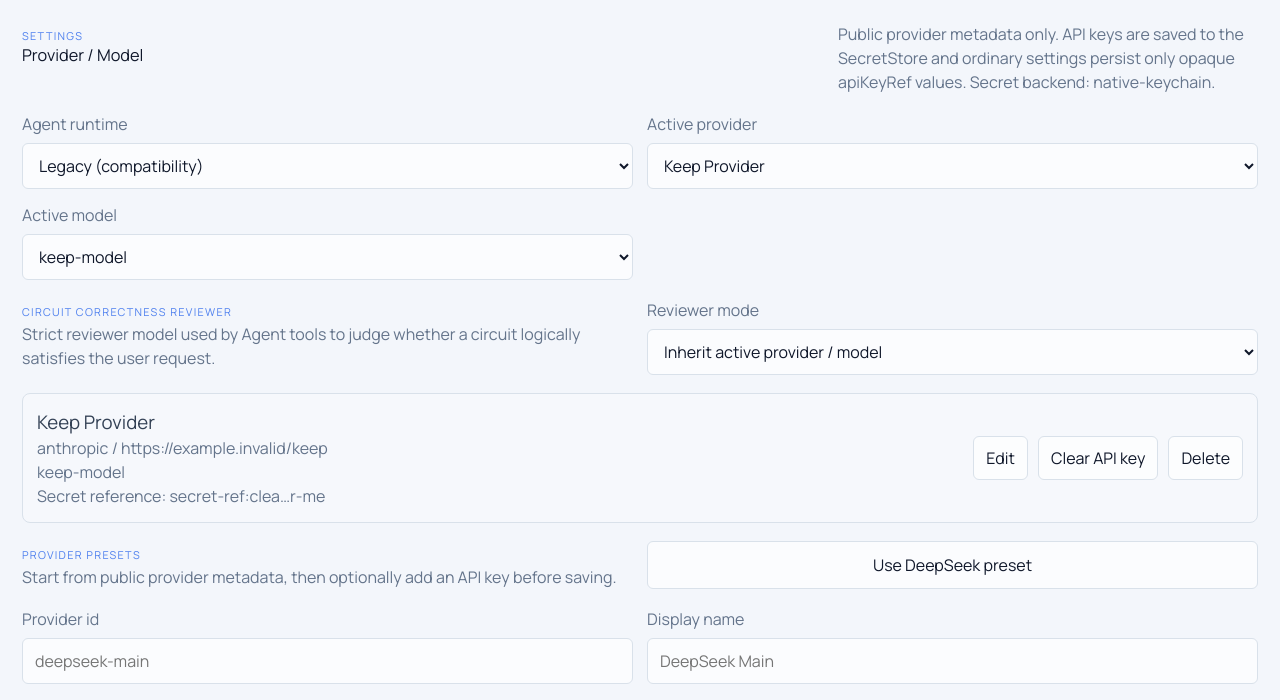
it: ProviderModelSettings › clears a saved API key through SecretStore without deleting provider metadata
Click the button "Clear API key" at (1098, 458), box x1=1038 y1=436 x2=1158 y2=480
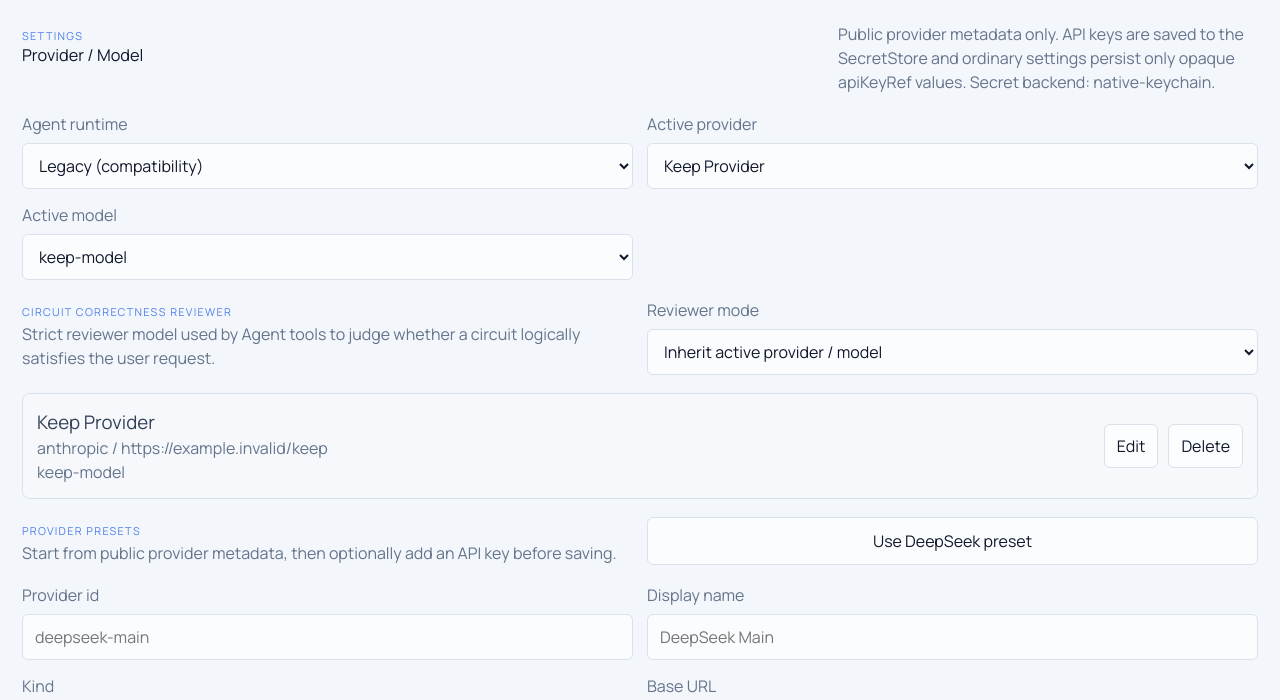
Expected: the text "Keep Provider" is shown, x1=37 y1=409 x2=155 y2=435
Now the text "Secret reference" is gone
